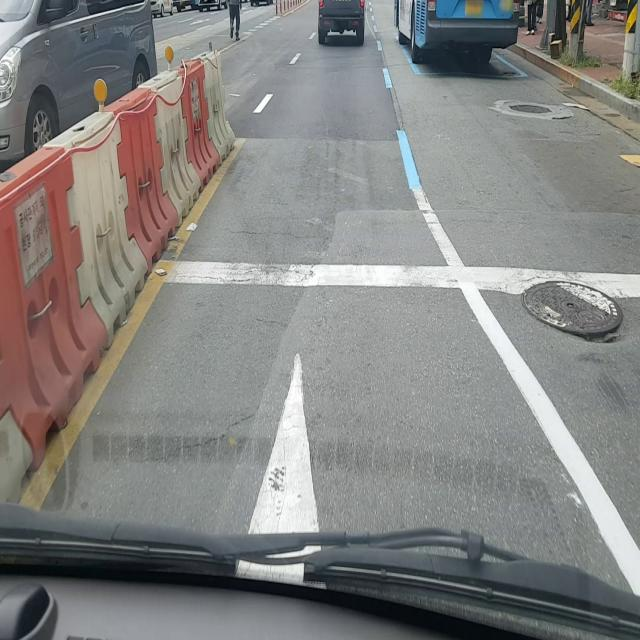Pothole: (519, 280, 624, 348)
